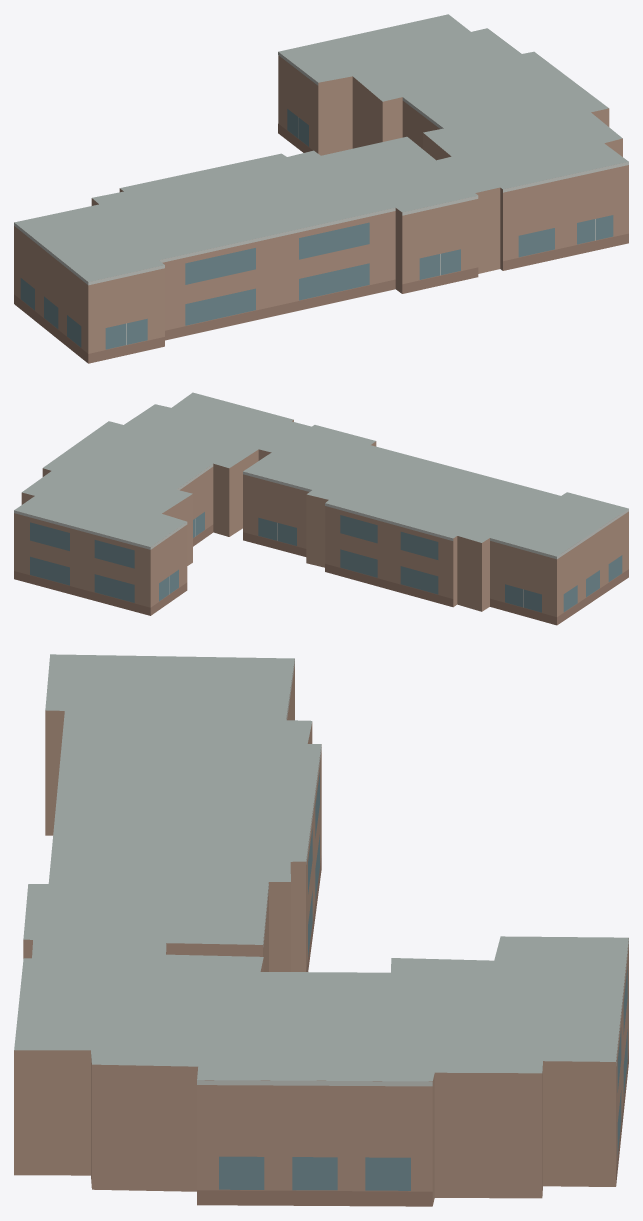
Rendered from survey-upis-32866455.glb.
3 views of the same model, one above another, from view 1: azimuth 30°, elevation 25°; view 2: azimuth 150°, elevation 25°; view 3: azimuth 270°, elevation 25° (orthographic). The views are drawn at different scales.
Visible parts, largest first — view 1: survey-upis-32866455.tmp; view 2: survey-upis-32866455.tmp; view 3: survey-upis-32866455.tmp.
Boxes of the visible parts, bbox=[...] form: survey-upis-32866455.tmp: bbox=[14, 14, 628, 363]; survey-upis-32866455.tmp: bbox=[14, 392, 628, 625]; survey-upis-32866455.tmp: bbox=[14, 654, 628, 1206].
Size of the model in its own units: 44.66 by 6.1 by 27.17.
